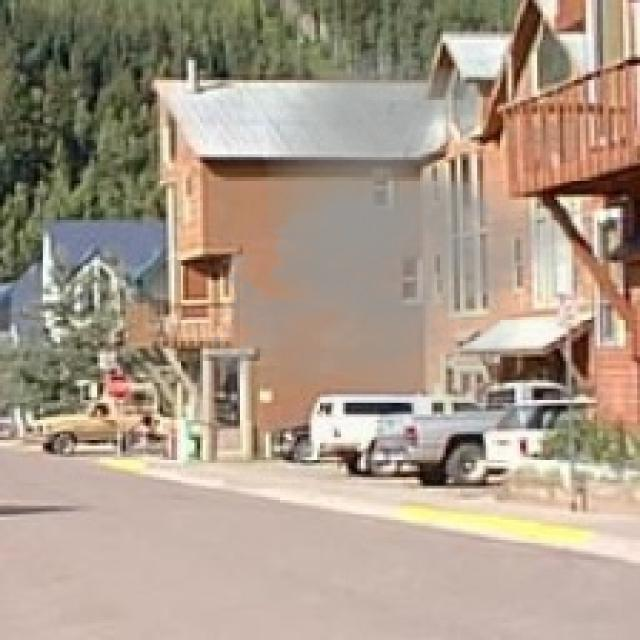Smoke: (197, 40, 589, 429)
